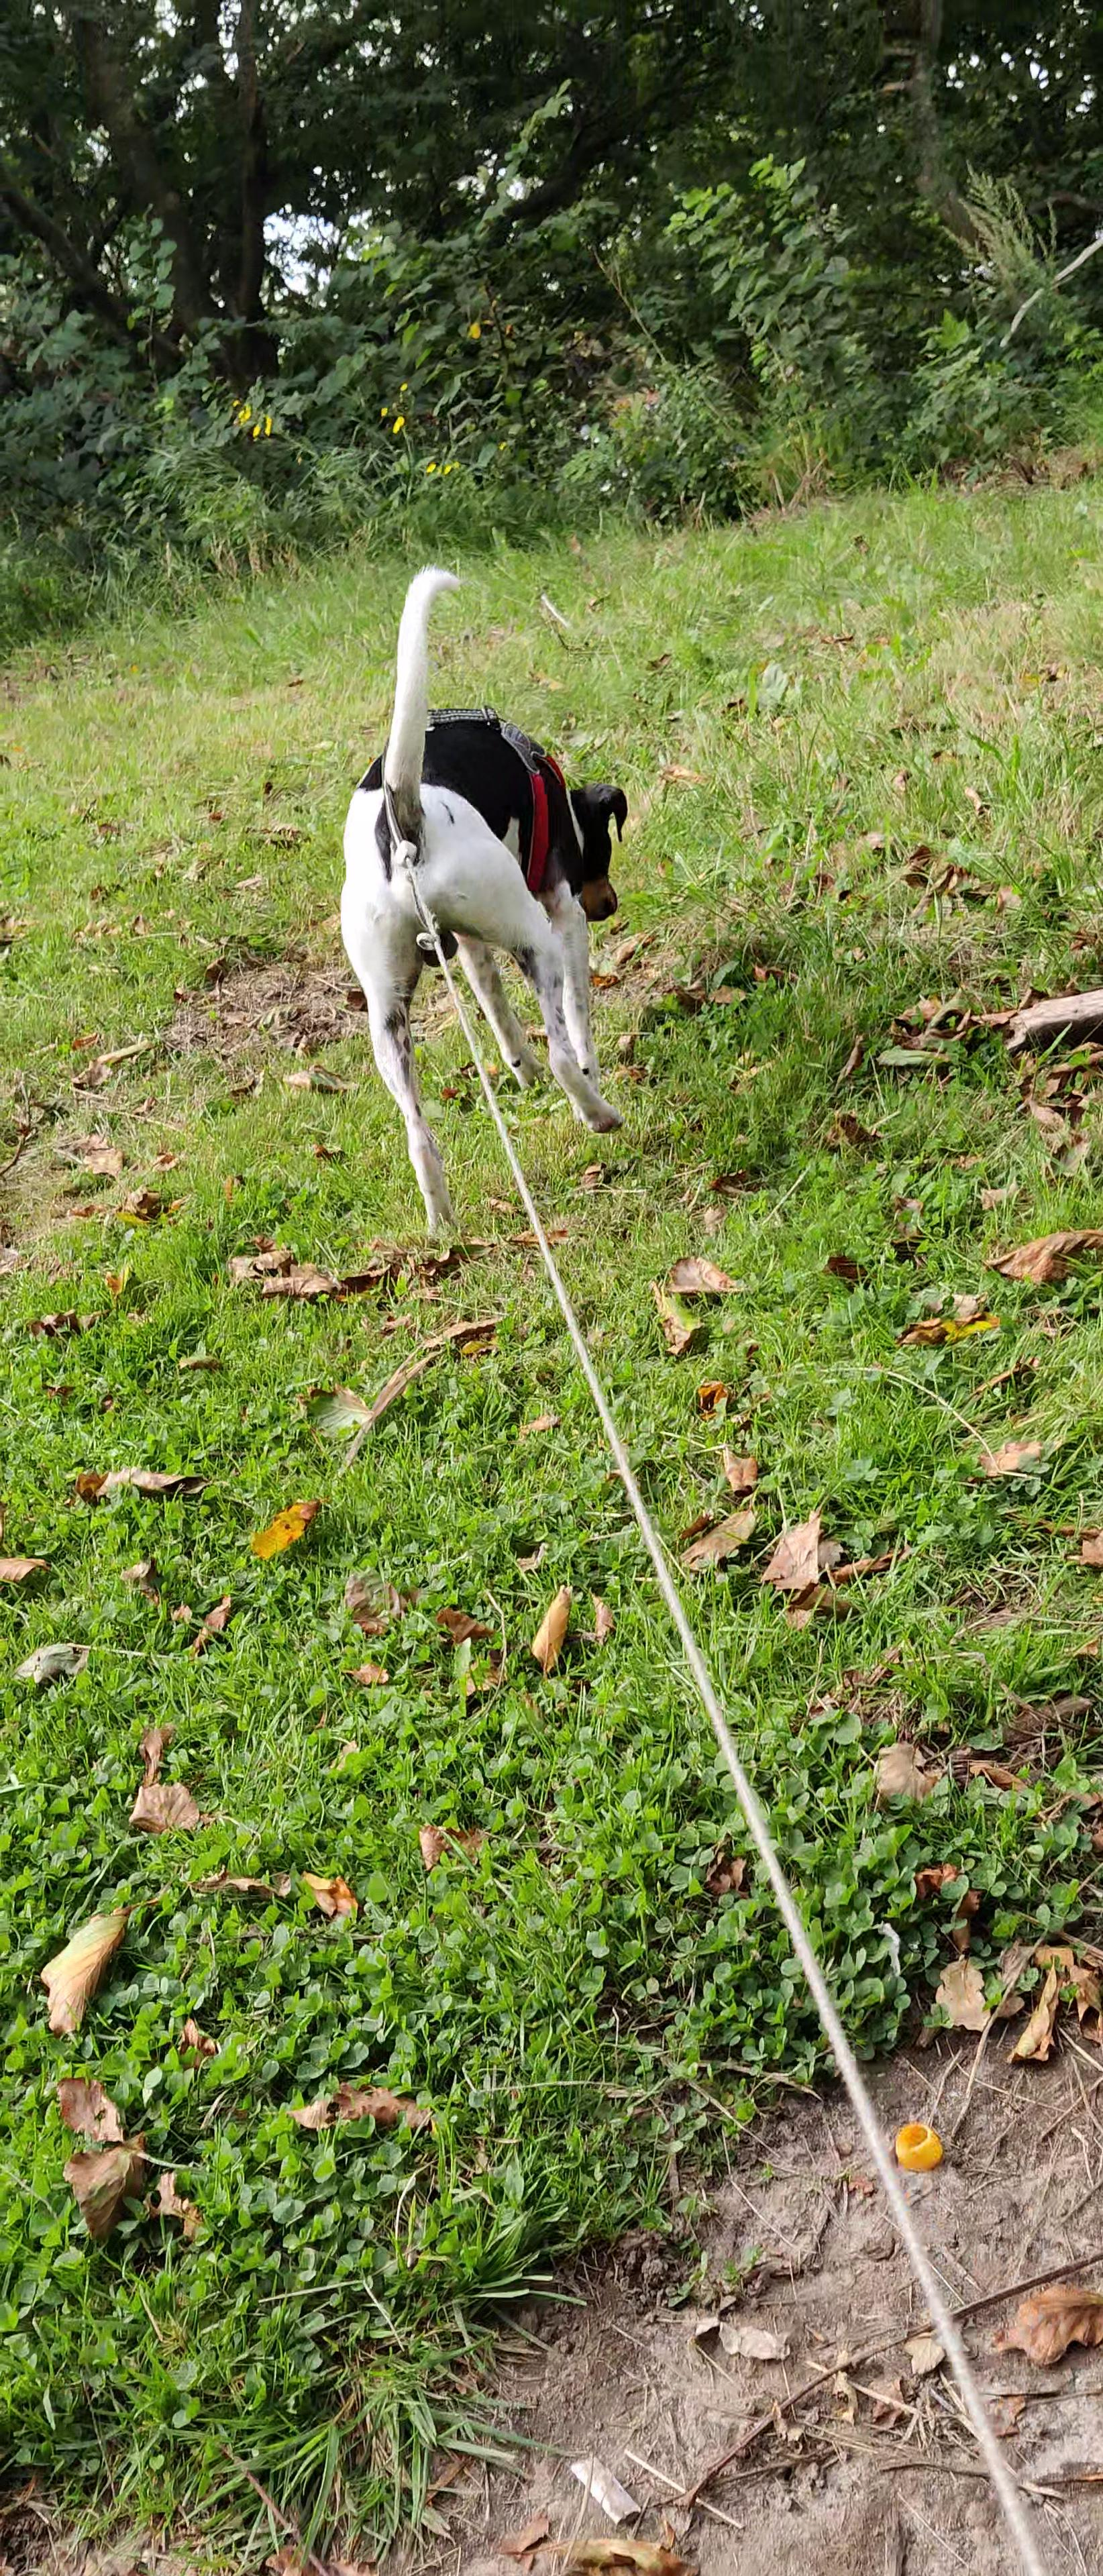Dog: (304, 536, 676, 1267)
